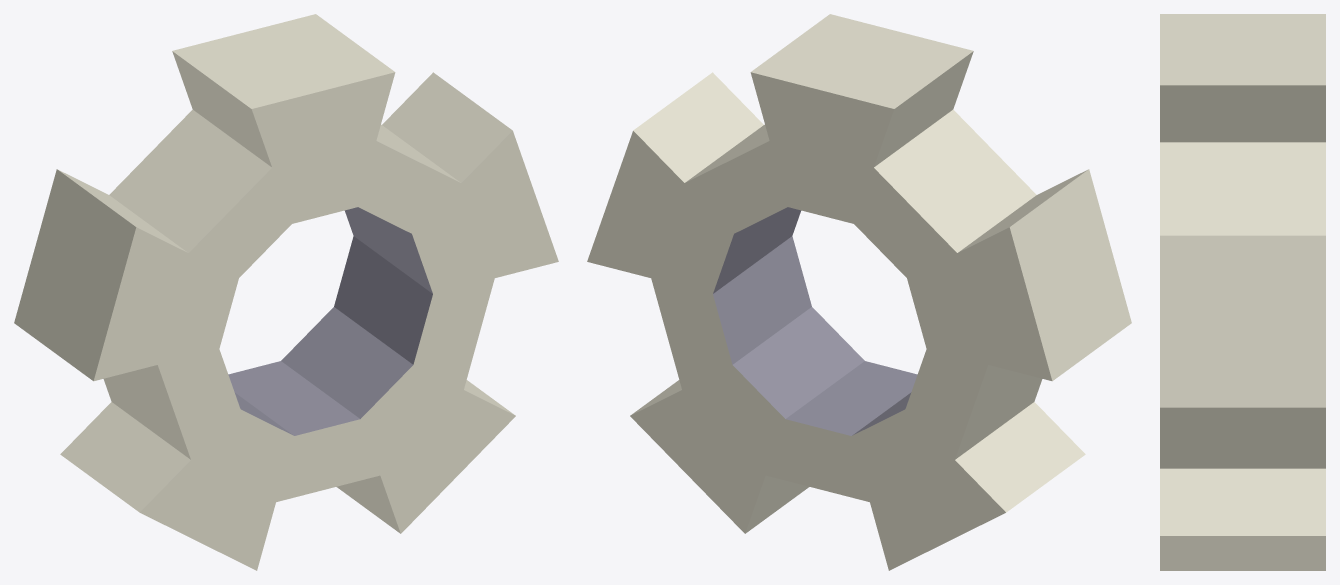
The model's file is Gear.glb.
3 views of the same model, side by side, from view 1: azimuth 30°, elevation 25°; view 2: azimuth 150°, elevation 25°; view 3: azimuth 270°, elevation 25° (orthographic). The views are drawn at different scales.
Parts seen in each view (by area): view 1: Gear.001; view 2: Gear.001; view 3: Gear.001.
Part boxes in pixels (x1,y1,x2,y2): Gear.001: [14, 14, 558, 570]; Gear.001: [587, 14, 1131, 570]; Gear.001: [1160, 14, 1325, 570].
Size of the model in its own units: 1.96 by 1.87 by 0.58.
Materials: 1 (1 with a texture image).
